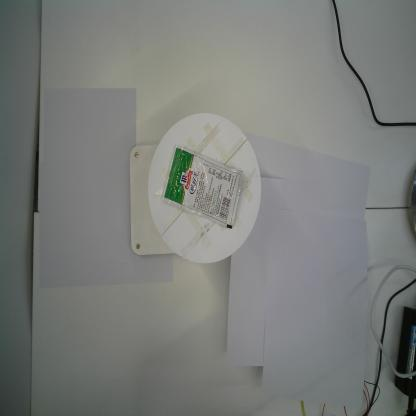Seasoner: (160, 144, 244, 230)
